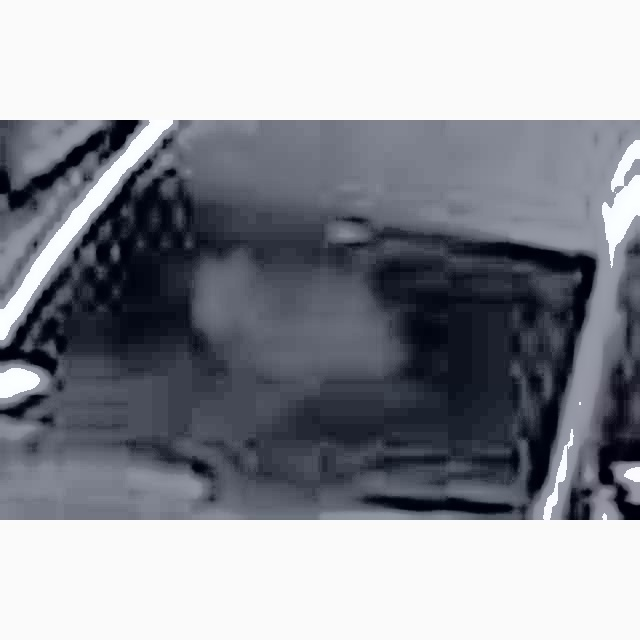tidak-pakai: (144, 232, 408, 424)
